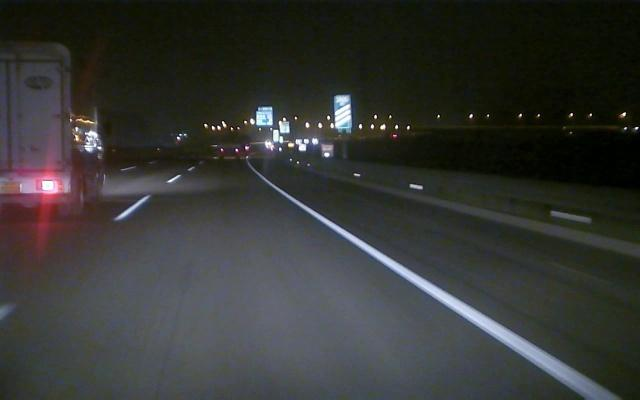lane: (256, 174, 618, 396), (109, 173, 182, 224)
